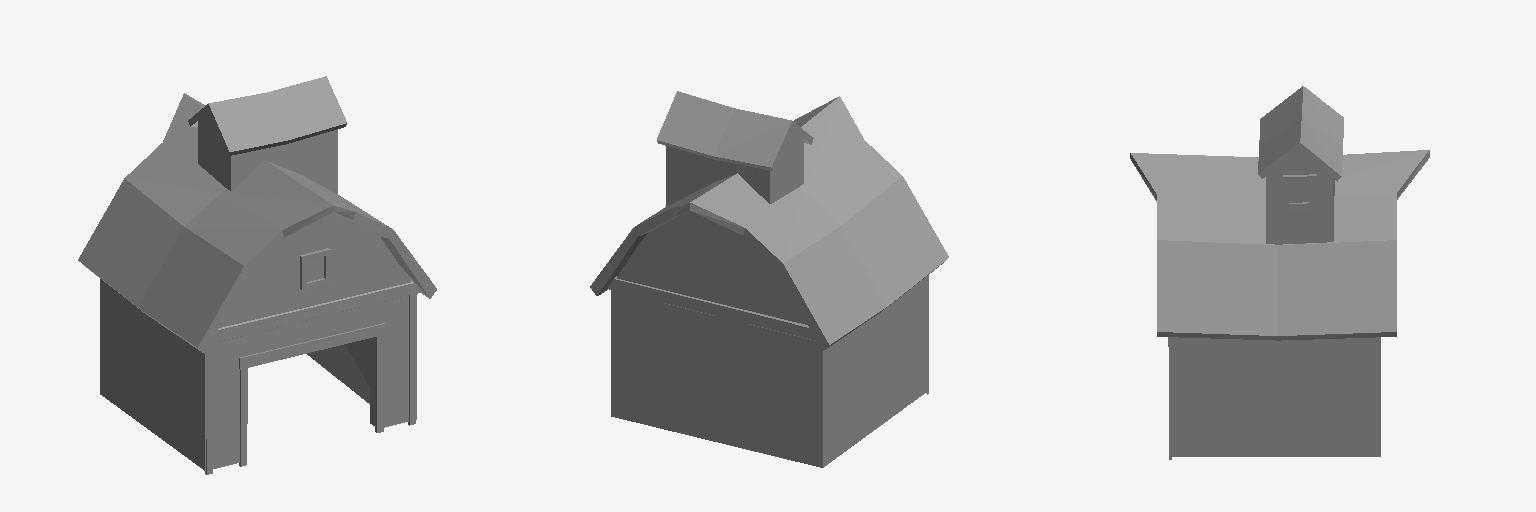
File: farm_barn_01.obj
3 views of the same model, side by side, from view 1: azimuth 30°, elevation 25°; view 2: azimuth 150°, elevation 25°; view 3: azimuth 270°, elevation 25° (orthographic).
Parts seen in each view (by area): view 1: farm_barn_farm_barn_mesh; view 2: farm_barn_farm_barn_mesh; view 3: farm_barn_farm_barn_mesh.
Boxes of the visible parts, <box> form: farm_barn_farm_barn_mesh: <box>78,76,436,474</box>; farm_barn_farm_barn_mesh: <box>590,91,948,467</box>; farm_barn_farm_barn_mesh: <box>1130,86,1429,459</box>.
Bounding box in the file's own units: 2.62 × 3.19 × 2.83.